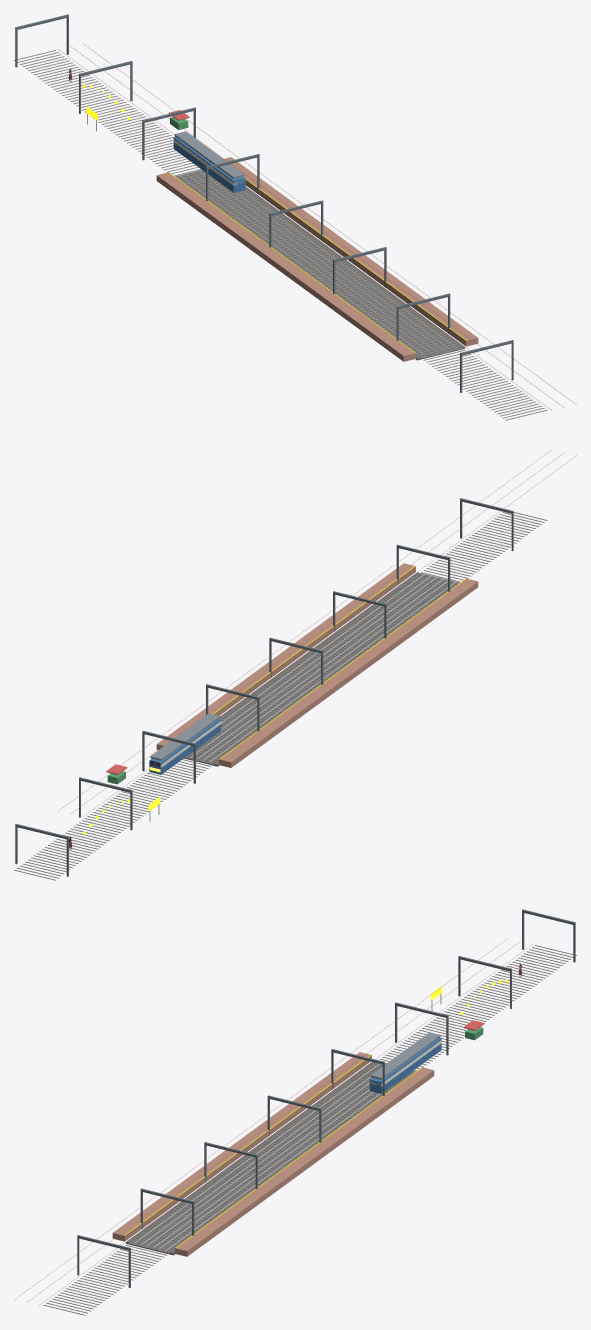
File: environment_modular.glb
The picture shows the model from 3 angles, top to bottom: view 1: azimuth 30°, elevation 25°; view 2: azimuth 150°, elevation 25°; view 3: azimuth 330°, elevation 25°; orthographic projection.
Parts seen in each view (by area): view 1: IR_BallastBed, IR_Platform_Left, IR_Platform_Right, IR_Express_BodyBlue, IR_Express_Roof; view 2: IR_BallastBed, IR_Platform_Left, IR_Platform_Right, IR_Express_BodyBlue, IR_Express_Roof; view 3: IR_BallastBed, IR_Platform_Right, IR_Platform_Left, IR_Express_BodyBlue, IR_Express_Roof.
Boxes of the visible parts, bbox=[...] form: IR_BallastBed: bbox=[175, 170, 464, 360]; IR_Platform_Left: bbox=[156, 172, 415, 361]; IR_Platform_Right: bbox=[224, 157, 478, 346]; IR_Express_BodyBlue: bbox=[173, 137, 245, 192]; IR_Express_Roof: bbox=[174, 131, 244, 178]; IR_BallastBed: bbox=[184, 572, 459, 766]; IR_Platform_Left: bbox=[219, 578, 478, 767]; IR_Platform_Right: bbox=[156, 563, 415, 750]; IR_Express_BodyBlue: bbox=[149, 719, 221, 774]; IR_Express_Roof: bbox=[150, 713, 220, 760]; IR_BallastBed: bbox=[126, 1062, 415, 1255]; IR_Platform_Right: bbox=[175, 1067, 434, 1256]; IR_Platform_Left: bbox=[112, 1052, 371, 1241]; IR_Express_BodyBlue: bbox=[369, 1038, 441, 1093]; IR_Express_Roof: bbox=[370, 1032, 440, 1079].
Size of the model in its own units: 12.2 by 6.5 by 150.
Materials: 17 (1 with a texture image).
